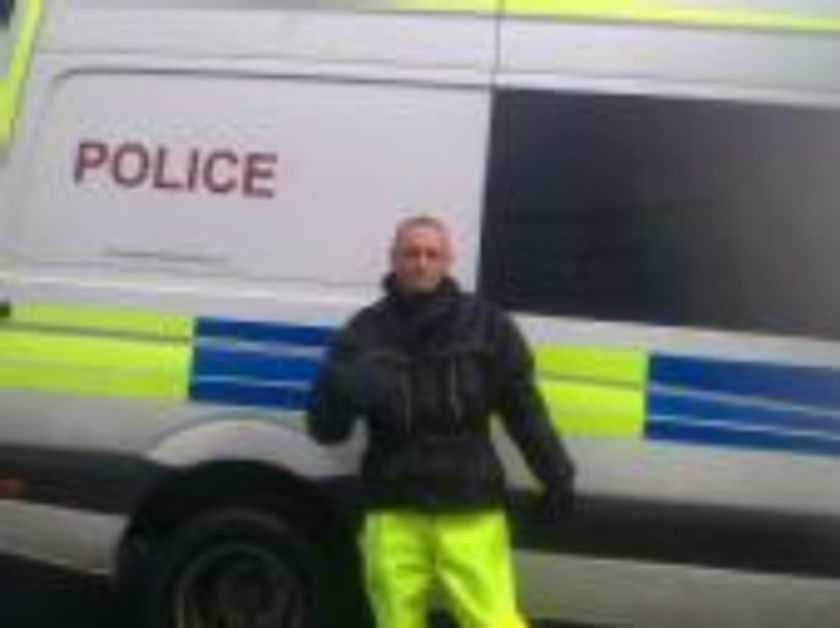Police Van: (7, 7, 840, 628)
